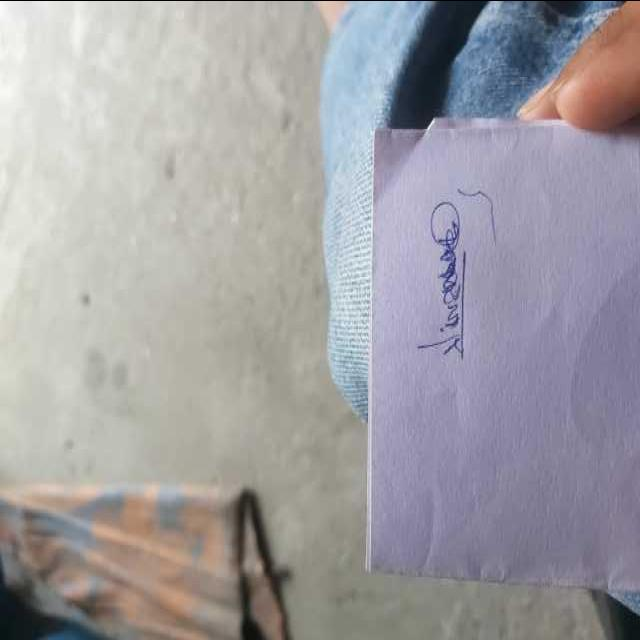signature: (415, 170, 499, 390)
